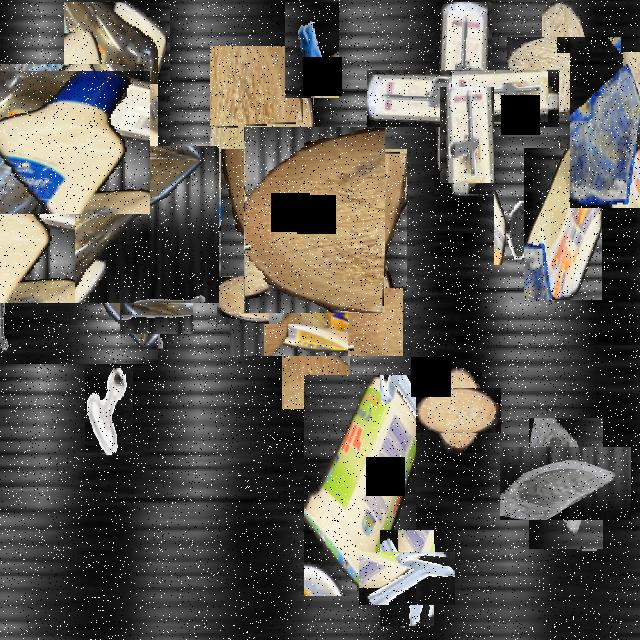glass: (570, 52, 640, 208), (515, 432, 617, 535)
metal: (370, 540, 444, 616), (285, 2, 339, 98), (440, 87, 494, 183), (85, 368, 133, 453), (127, 284, 185, 342), (494, 190, 536, 265), (34, 191, 88, 243)
plastic: (0, 114, 188, 333), (64, 2, 170, 250), (304, 375, 416, 596), (0, 66, 147, 217), (400, 36, 526, 160), (256, 262, 376, 382), (524, 148, 602, 300)
wood: (232, 138, 396, 302), (210, 46, 314, 231), (524, 19, 604, 98), (226, 267, 292, 334), (426, 378, 492, 443)
